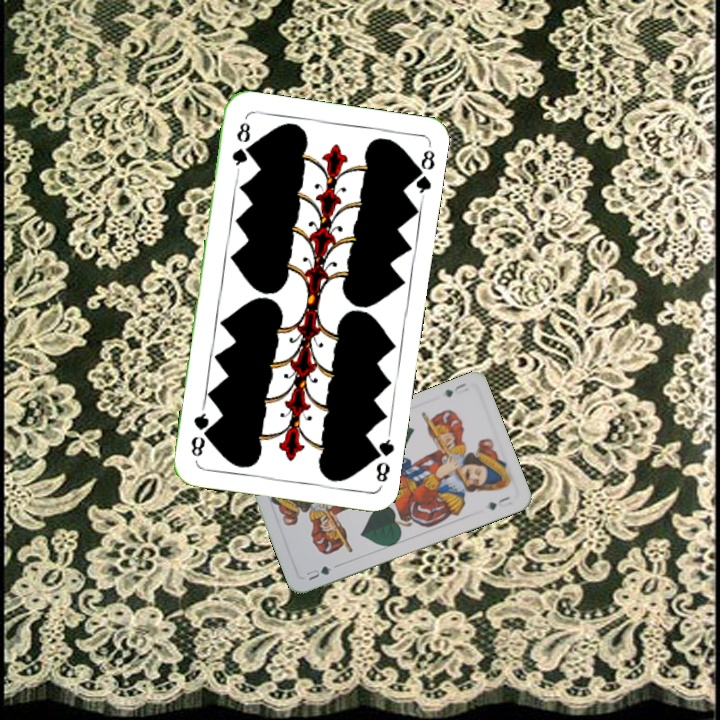G8: (367, 429, 397, 488), (228, 118, 253, 174)
GU: (302, 562, 334, 583), (441, 379, 468, 400)
